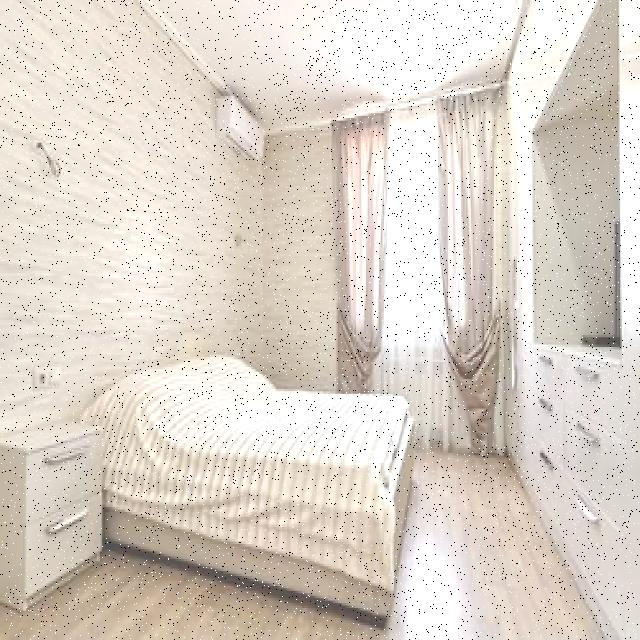bed: (107, 343, 420, 598)
